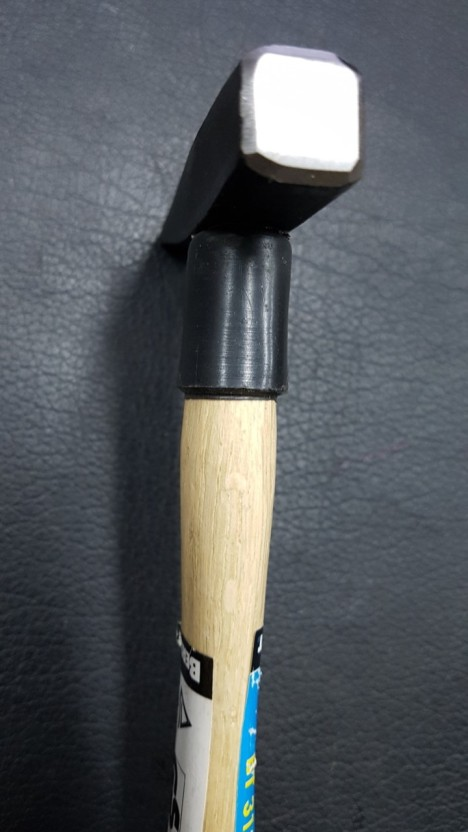hammer: (105, 38, 390, 828)
